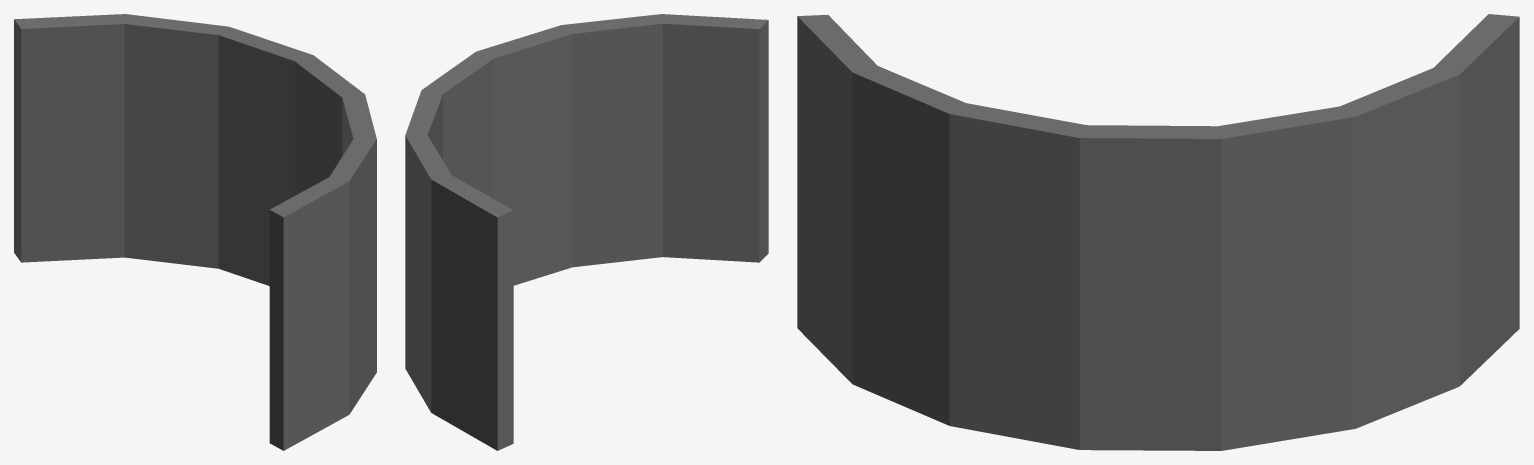
Rendered from Collider_mccpq2_a.FBX.
3 renders of one model, left to right at view 1: azimuth 30°, elevation 25°; view 2: azimuth 150°, elevation 25°; view 3: azimuth 270°, elevation 25°, orthographic. The views are drawn at different scales.
Parts seen in each view (by area): view 1: Collider_mccpq2_a; view 2: Collider_mccpq2_a; view 3: Collider_mccpq2_a.
Boxes of the visible parts, x1=… form: Collider_mccpq2_a: x1=14, y1=14, x2=376, y2=450; Collider_mccpq2_a: x1=405, y1=14, x2=768, y2=450; Collider_mccpq2_a: x1=797, y1=14, x2=1519, y2=450.
Size of the model in its own units: 672 by 781 by 1637.
1 material, 1 textured.
